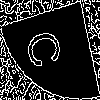C: (25, 25, 71, 71)
